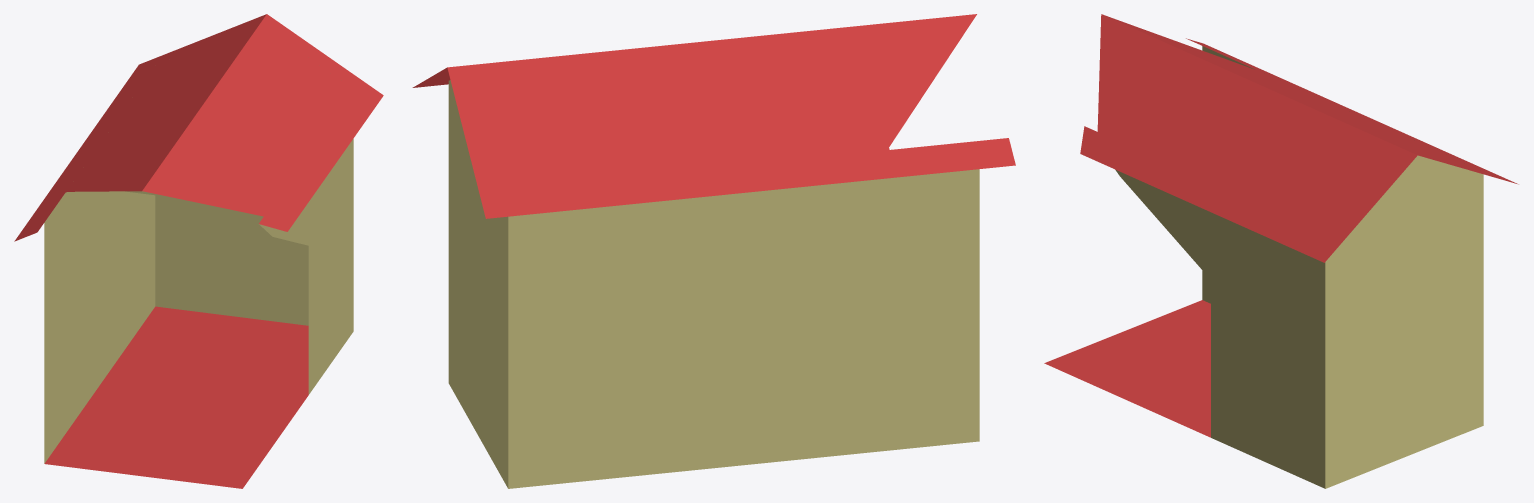
The picture shows the model from 3 angles, left to right: view 1: azimuth 30°, elevation 25°; view 2: azimuth 150°, elevation 25°; view 3: azimuth 270°, elevation 25°; orthographic projection. The views are drawn at different scales.
Size of the model in its own units: 15.24 by 13.96 by 10.08.
